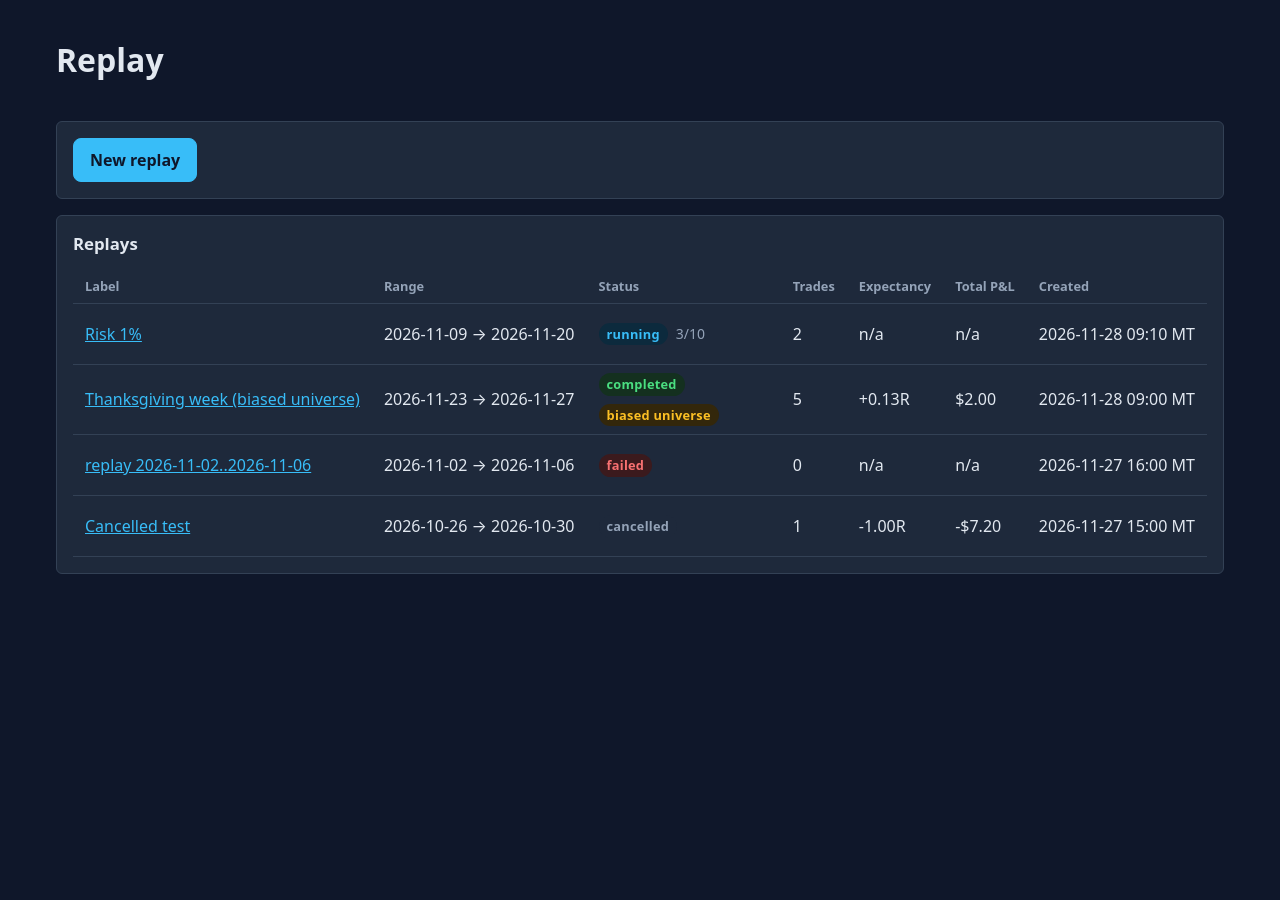
Scenario: New replay (acceptance test 3, busy) › not busy: New replay opens the form
The width and height of the screenshot is (1280, 900).
Click the button "New replay": (135, 160) [73,138,197,182]
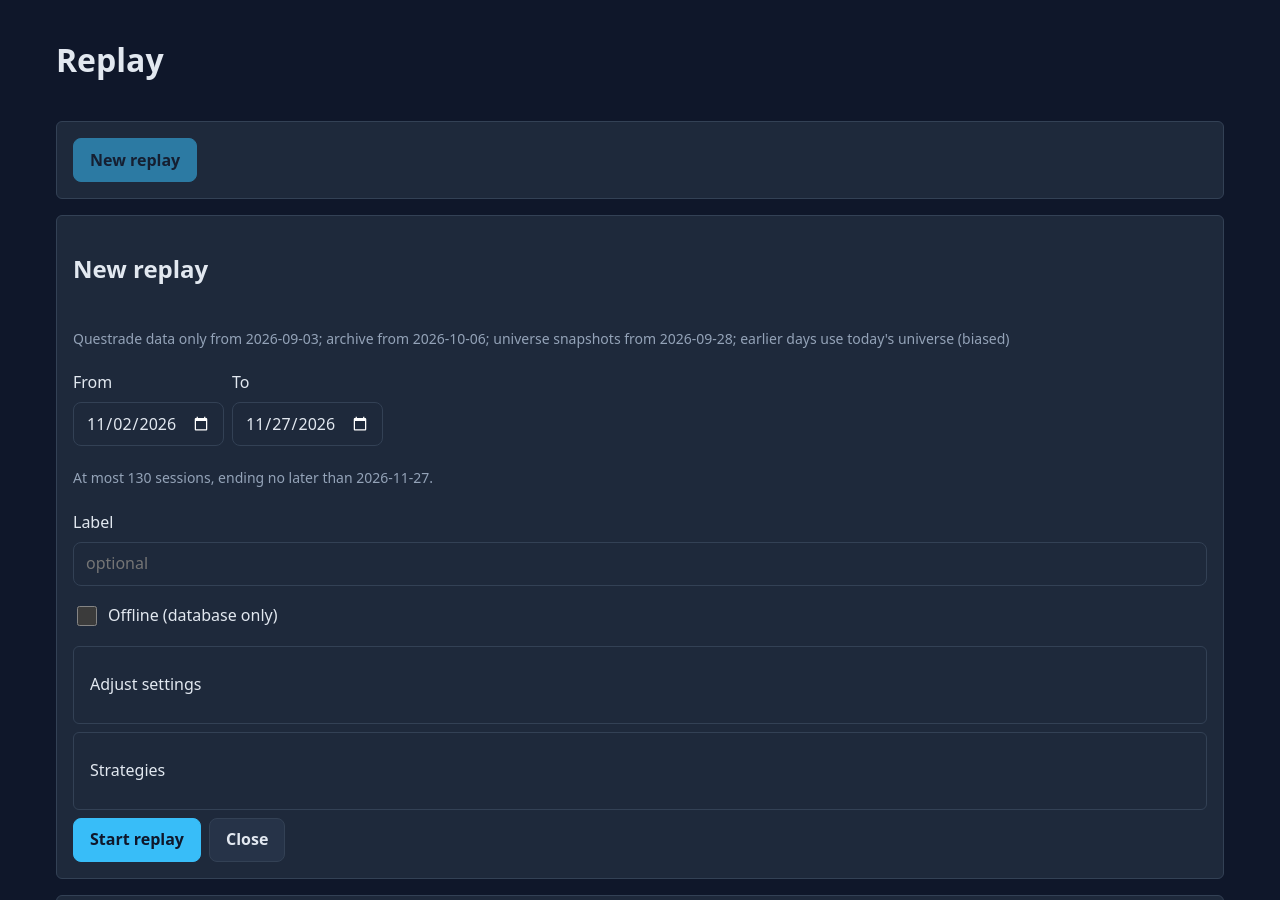
Check: the form "New replay" is shown
